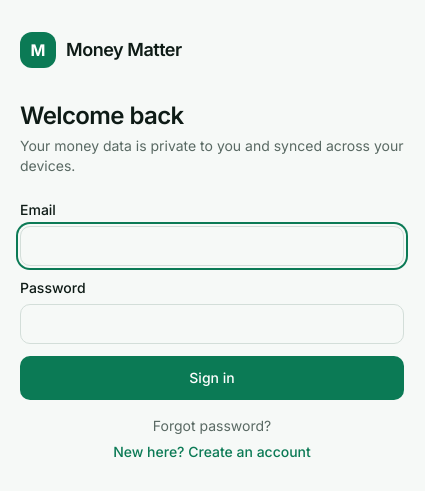
Test: signing in › shows the sign-in screen to signed-out visitors, and rejects a wrong password
Expected: the heading "Welcome back" is shown, [20,101,184,130]
In the field labelled "Email": (212, 246) [20,226,404,266], type "ann@example.com"
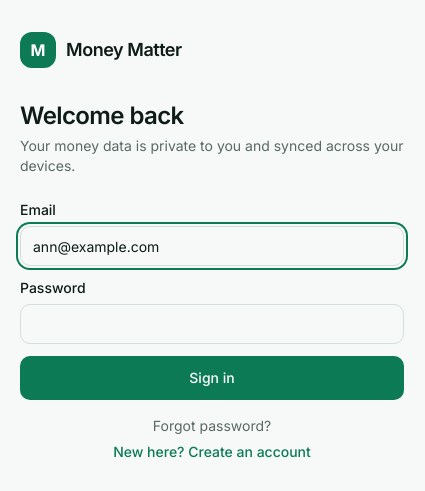
In the password field labelled "Password": (212, 324) [20,304,404,344], type "wrong-password"
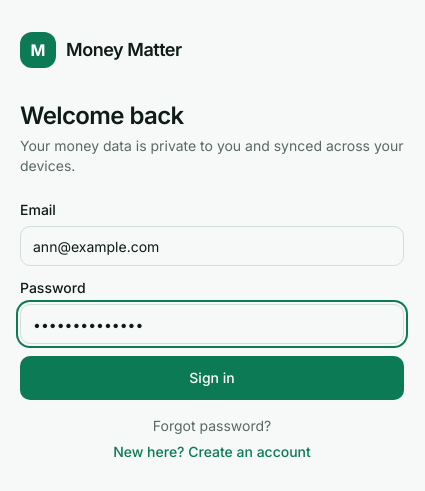
Click the button "Sign in": (212, 378) [20,356,404,400]
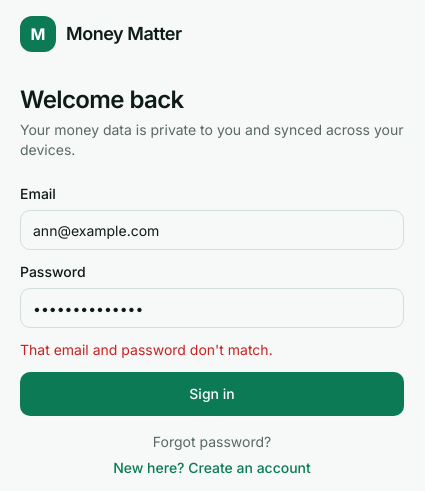
Expected: the text "That email and password don't match." is shown, [20,341,273,358]
